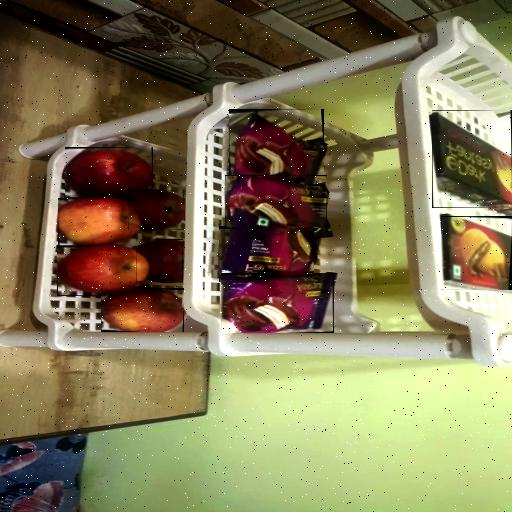Apple: (57, 246, 151, 296), (65, 147, 153, 198), (58, 198, 142, 248), (101, 288, 184, 332), (128, 190, 184, 230), (136, 239, 183, 282)
Choco Fills: (432, 110, 512, 208), (441, 216, 512, 290)
Choco Pie: (229, 109, 324, 182), (221, 273, 334, 333), (225, 176, 327, 230), (219, 226, 314, 282)
